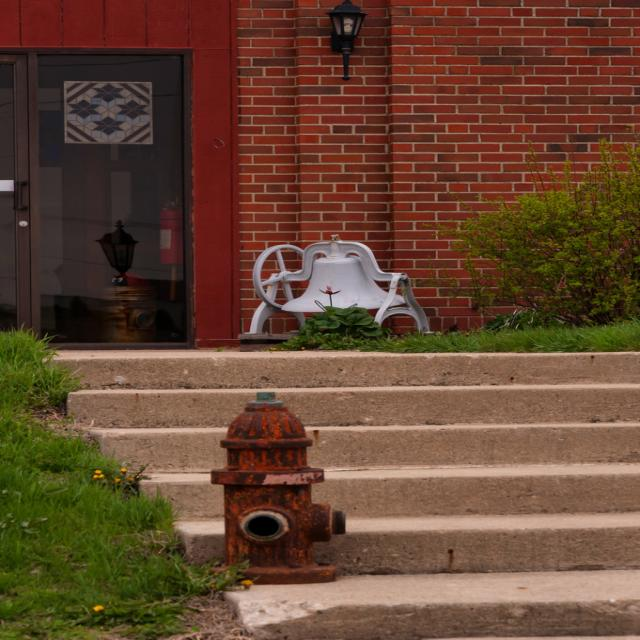fire_hydrant: (212, 390, 348, 584)
